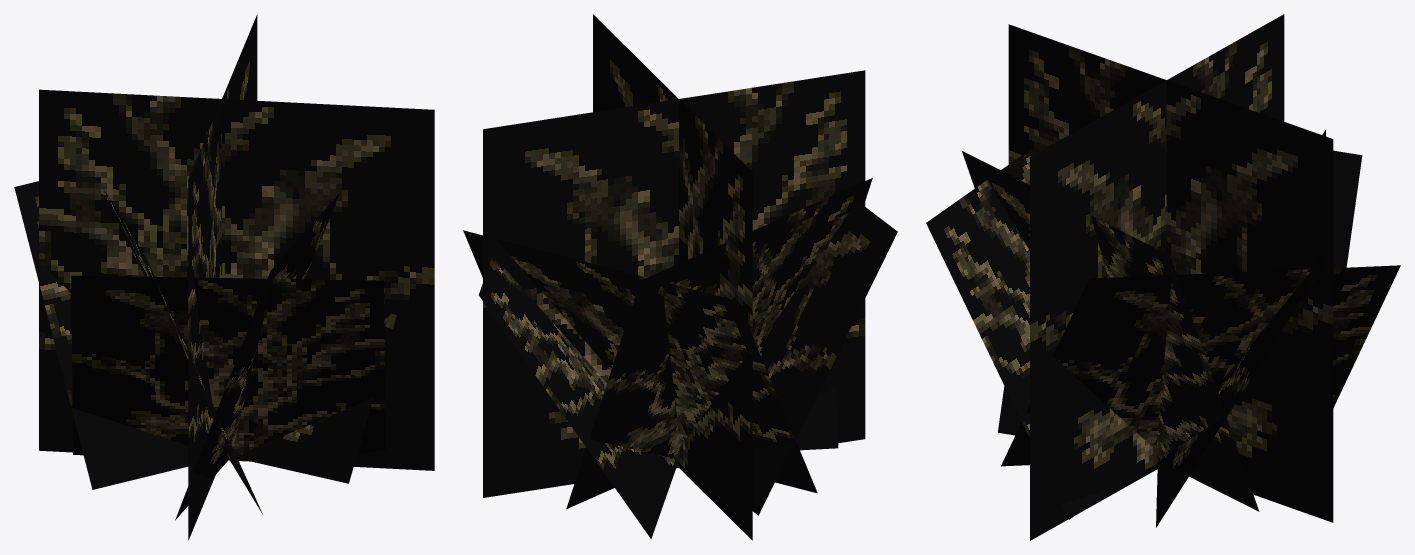
File: sbushnak_1.dae
The picture shows the model from 3 angles, left to right: view 1: azimuth 30°, elevation 25°; view 2: azimuth 150°, elevation 25°; view 3: azimuth 270°, elevation 25°; orthographic projection. The views are drawn at different scales.
Parts seen in each view (by area): view 1: sbushnak_1; view 2: sbushnak_1; view 3: sbushnak_1.
Part boxes in pixels (x1,y1,x2,y2): sbushnak_1: (14,14,434,540); sbushnak_1: (463,14,897,540); sbushnak_1: (926,14,1400,540).
Bounding box in the file's own units: 1.71 × 1.85 × 1.69.
1 material, 1 textured.
